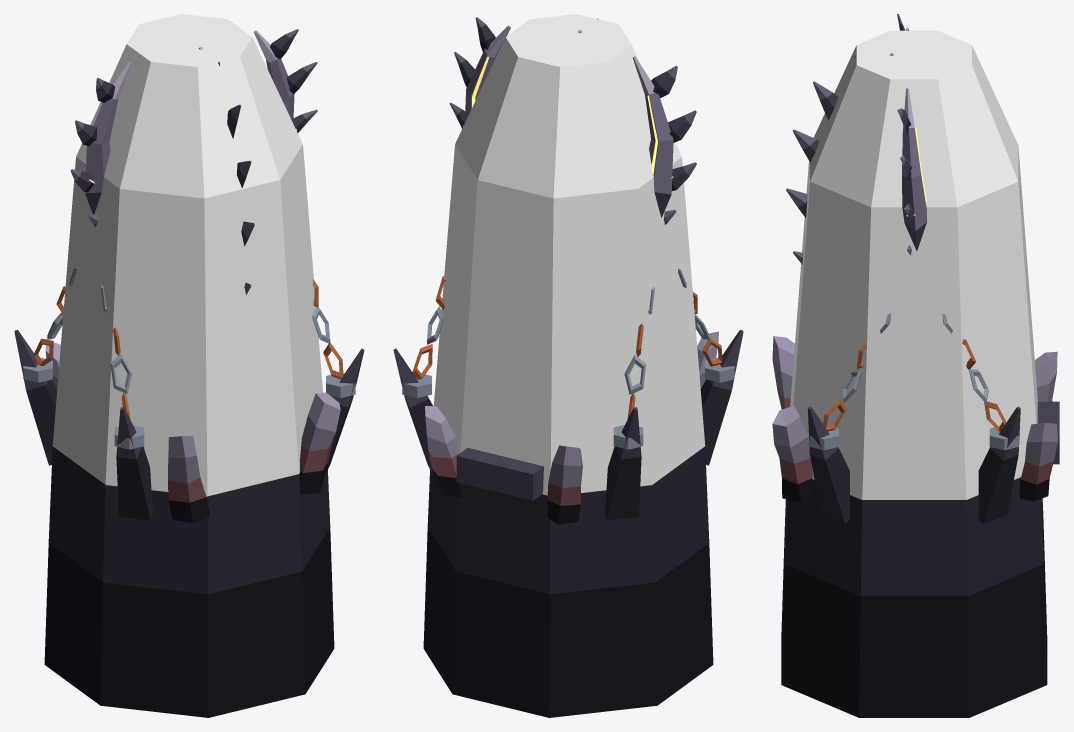
The model's file is volcanic_obsidian_leviathan_spire.glb.
The picture shows the model from 3 angles, left to right: view 1: azimuth 30°, elevation 25°; view 2: azimuth 150°, elevation 25°; view 3: azimuth 270°, elevation 25°; orthographic projection.
Visible parts, largest first — view 1: col_volcspire_base, volcanic_obsidian_leviathan_spire; view 2: col_volcspire_base, volcanic_obsidian_leviathan_spire; view 3: col_volcspire_base, volcanic_obsidian_leviathan_spire.
Boxes of the visible parts, <box> form: col_volcspire_base: <box>52,14,322,496</box>; volcanic_obsidian_leviathan_spire: <box>14,29,364,717</box>; col_volcspire_base: <box>433,14,705,495</box>; volcanic_obsidian_leviathan_spire: <box>393,17,743,717</box>; col_volcspire_base: <box>790,30,1037,499</box>; volcanic_obsidian_leviathan_spire: <box>772,14,1059,717</box>.
Size of the model in its own units: 4.14 by 9.89 by 4.23.
